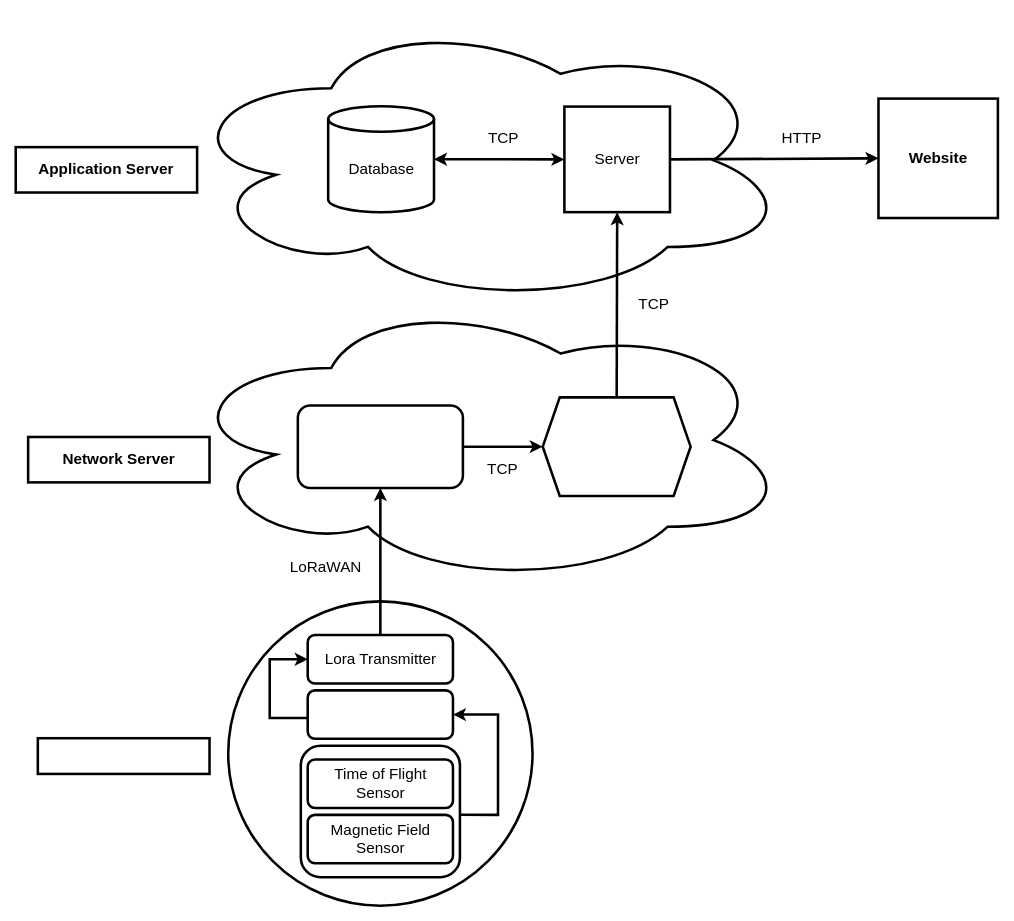
The diagram is 1014 pixels wide and 921 high, and some of its shapes have lost their labels. Each missing label, with the box of its shape:
End Device (Sensor): (36, 737, 210, 775)
LoRa Gateway: (296, 404, 464, 489)
Microcontroller: (306, 689, 454, 740)
MQTT Broker: (541, 396, 691, 497)
